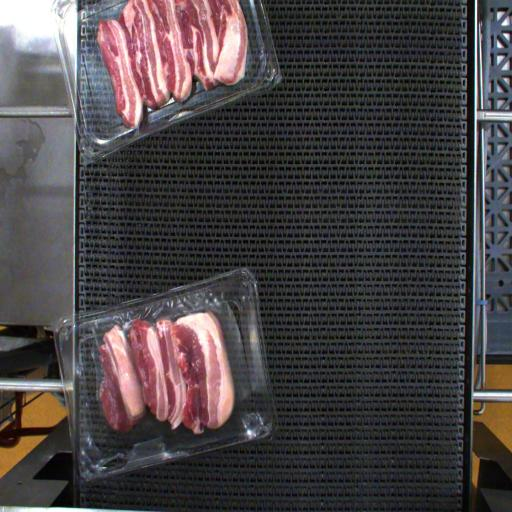unsealed: (50, 286, 258, 412)
